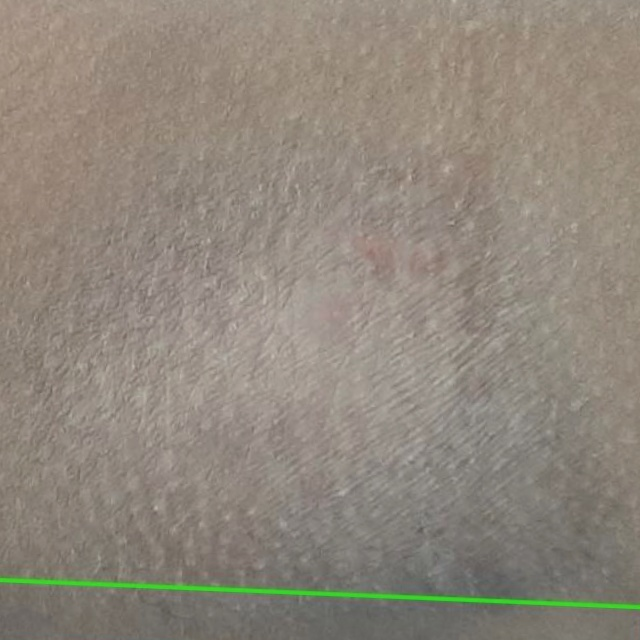Atopic Dermatitis: (0, 579, 639, 639)
